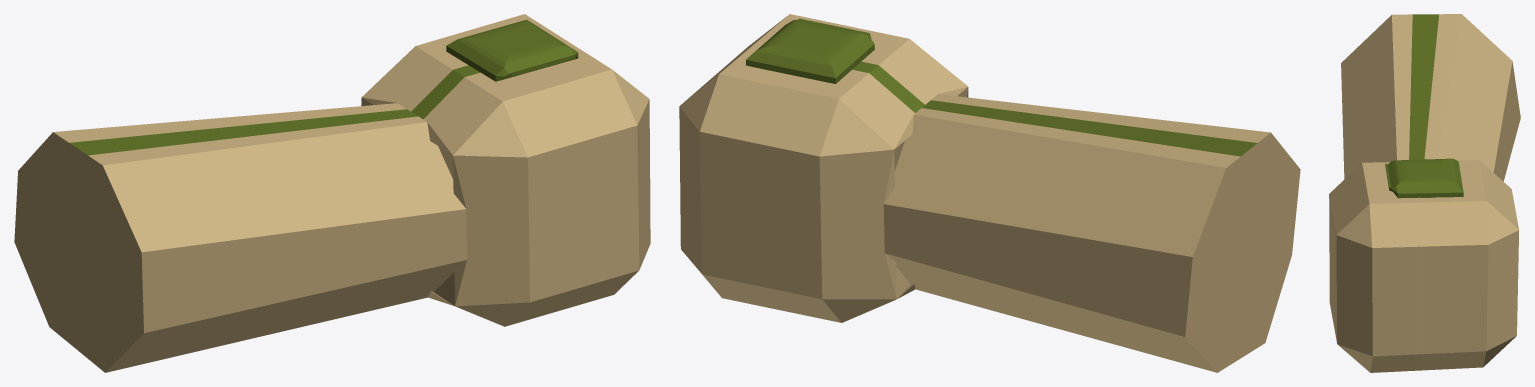
The model's file is arm.obj.
The picture shows the model from 3 angles, left to right: view 1: azimuth 30°, elevation 25°; view 2: azimuth 150°, elevation 25°; view 3: azimuth 270°, elevation 25°; orthographic projection. The views are drawn at different scales.
Parts seen in each view (by area): view 1: Main_Body_Cube, Orb_Cube.004; view 2: Main_Body_Cube, Orb_Cube.004; view 3: Main_Body_Cube, Orb_Cube.004.
Part boxes in pixels (<box>): Main_Body_Cube: <box>14,14,650,372</box>; Orb_Cube.004: <box>69,19,578,155</box>; Main_Body_Cube: <box>679,14,1300,372</box>; Orb_Cube.004: <box>746,18,1257,156</box>; Main_Body_Cube: <box>1329,14,1520,372</box>; Orb_Cube.004: <box>1385,14,1463,198</box>.
Bounding box in the file's own units: 2.29 × 0.9903 × 0.952.
